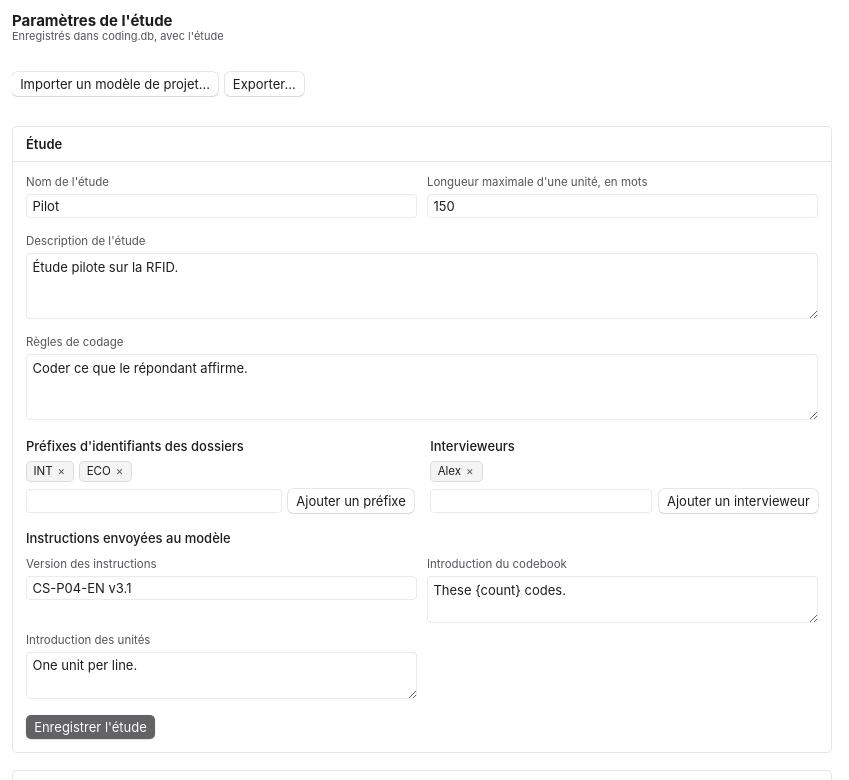
study configuration form › saves with PUT /api/config and says so
Check: the field showing "Pilot" is shown, box [26, 194, 417, 218]
Click the button "Enregistrer l'étude" at (90, 727), box [26, 715, 155, 739]
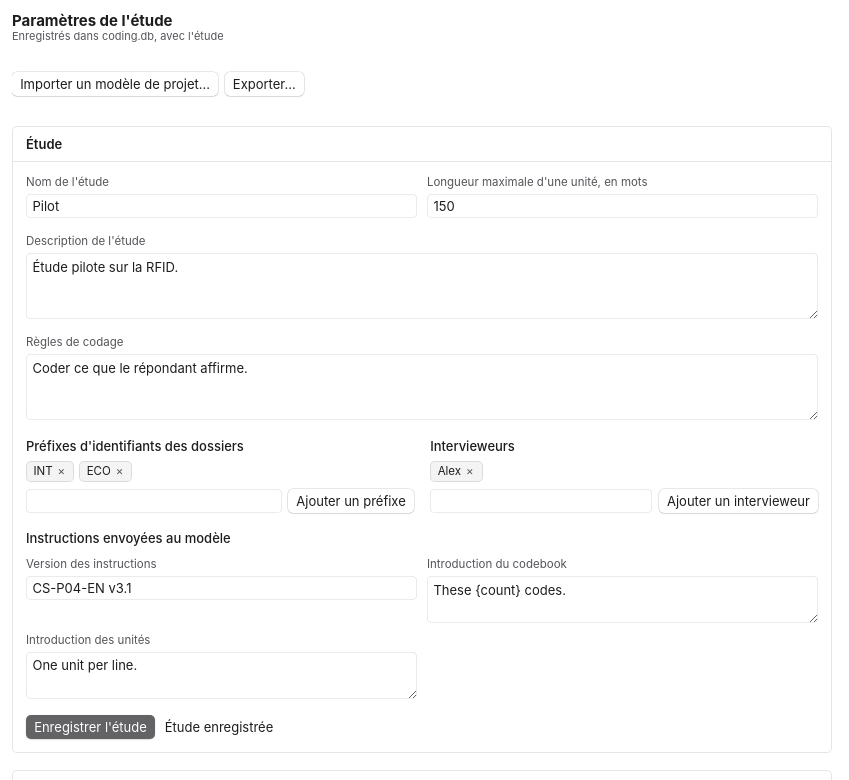
Check: the text "Étude enregistrée" is shown, box [165, 718, 273, 736]
